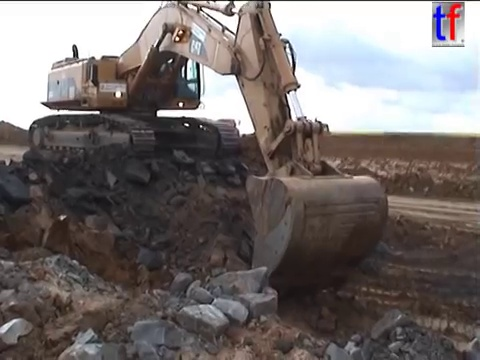excavator: (26, 1, 392, 300)
